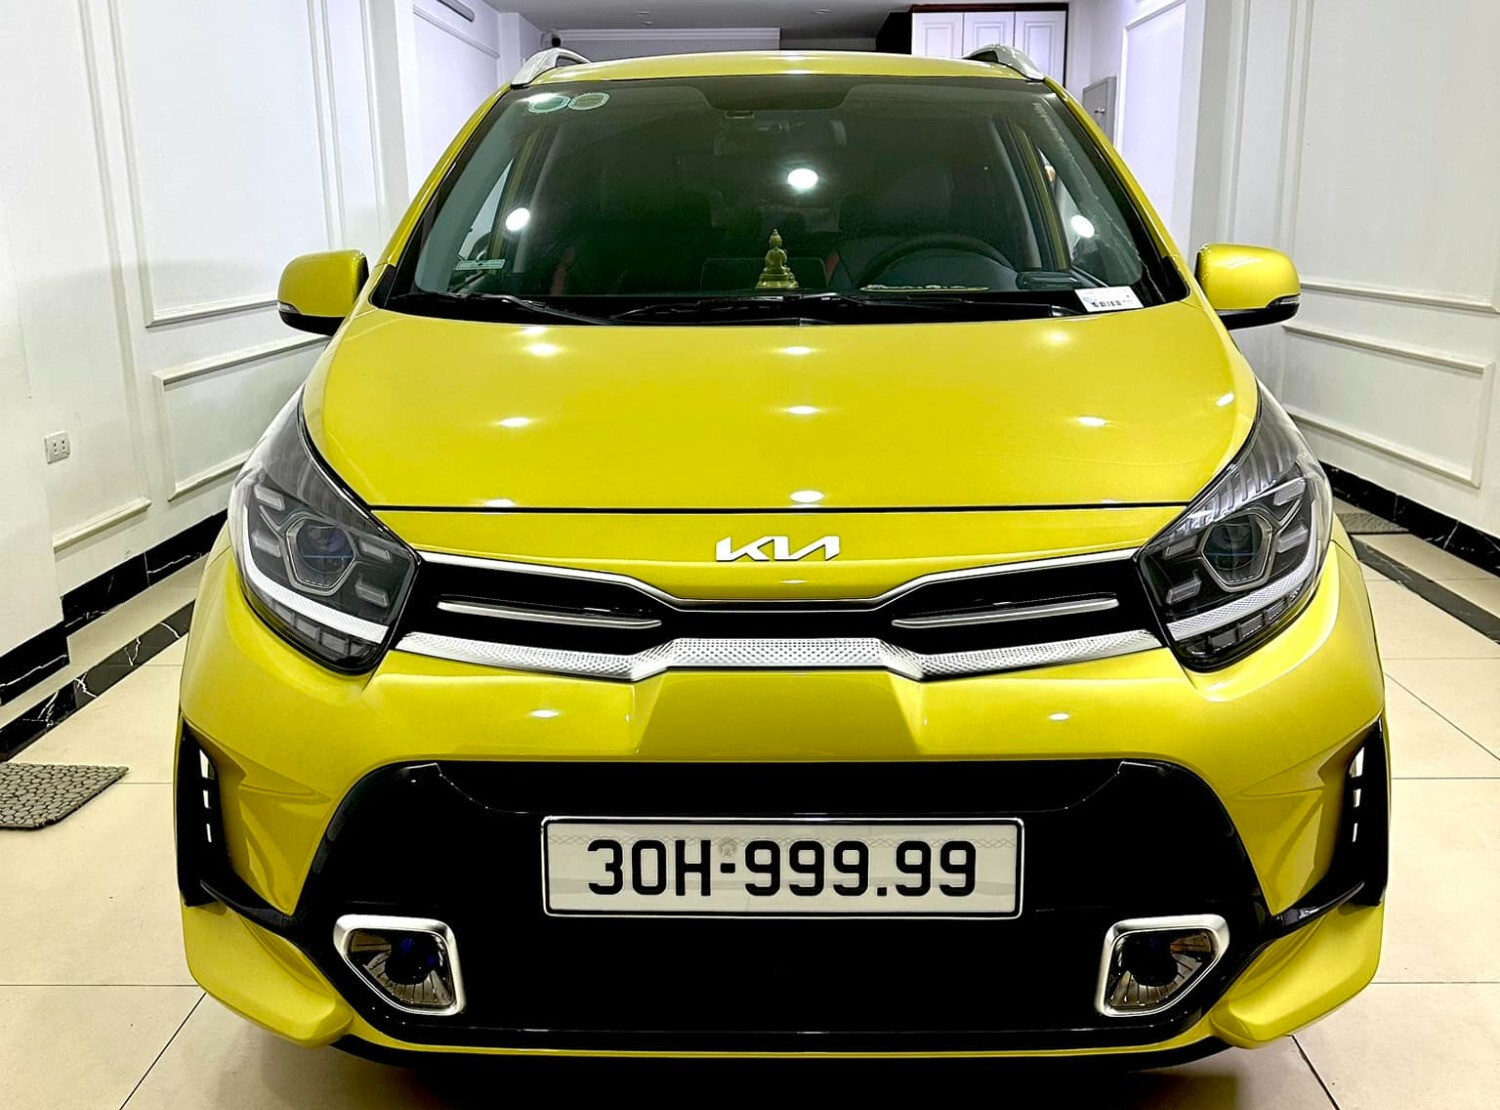number_plate: (543, 818, 1023, 917)
